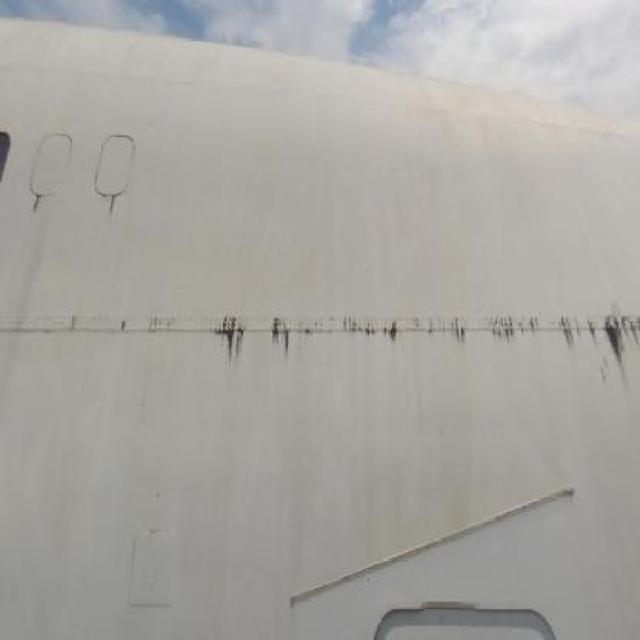Rust: (211, 300, 640, 392), (109, 193, 125, 227), (30, 194, 47, 217)
